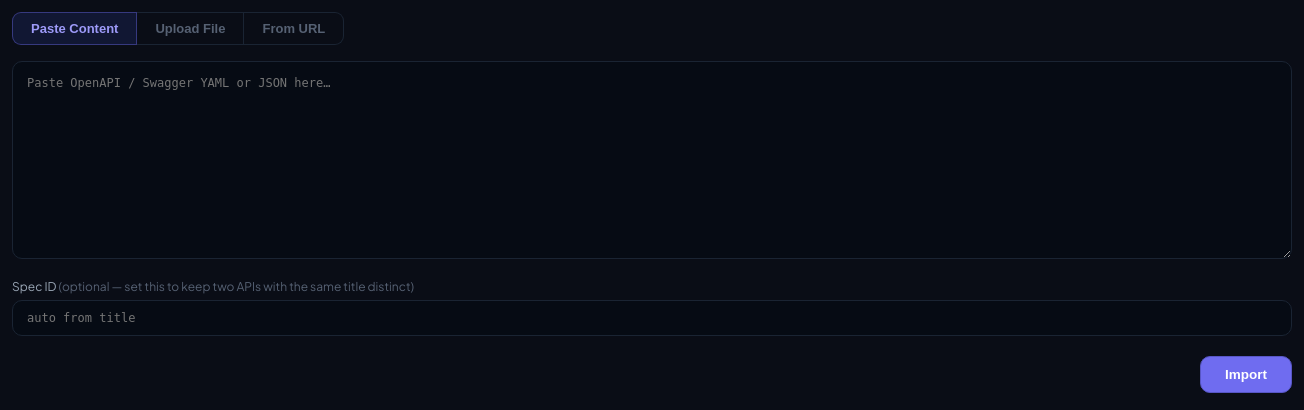
Test: OpenApiImporter › url_tab_empty_shows_error
Click the button "From URL" at (294, 28), box top-left (244, 12), bottom-right (344, 45)
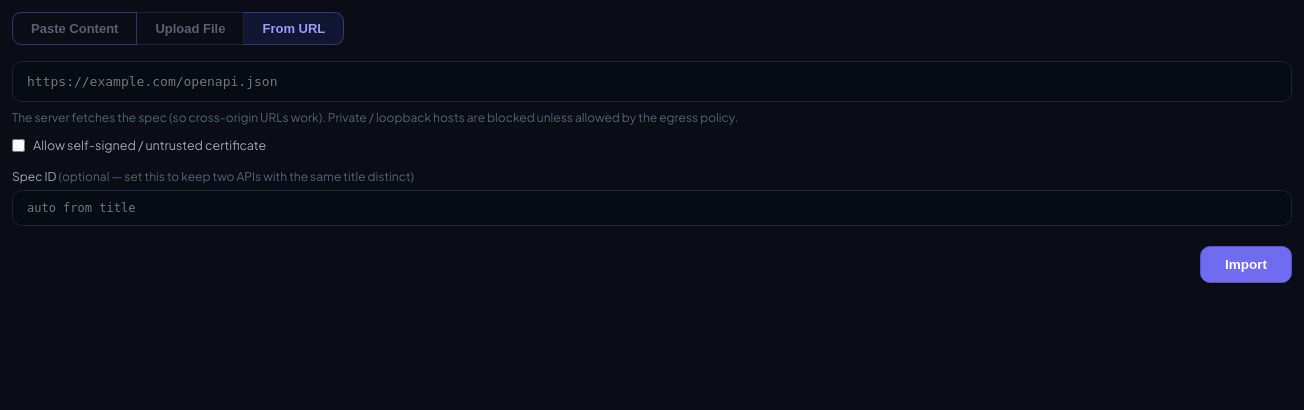
Click the button with aria-label "import spec" at (1246, 264), box top-left (1200, 246), bottom-right (1292, 283)
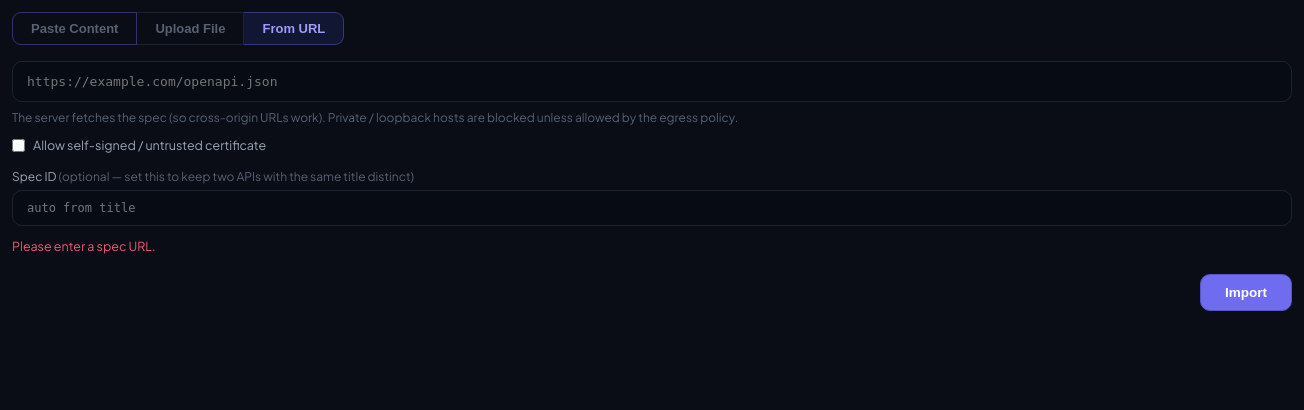
expect the message shows "URL": met, box top-left (12, 238), bottom-right (156, 254)
